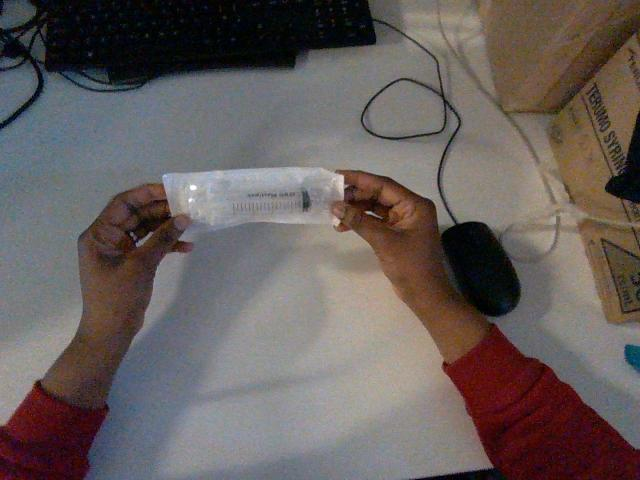syringe: (163, 167, 343, 229)
